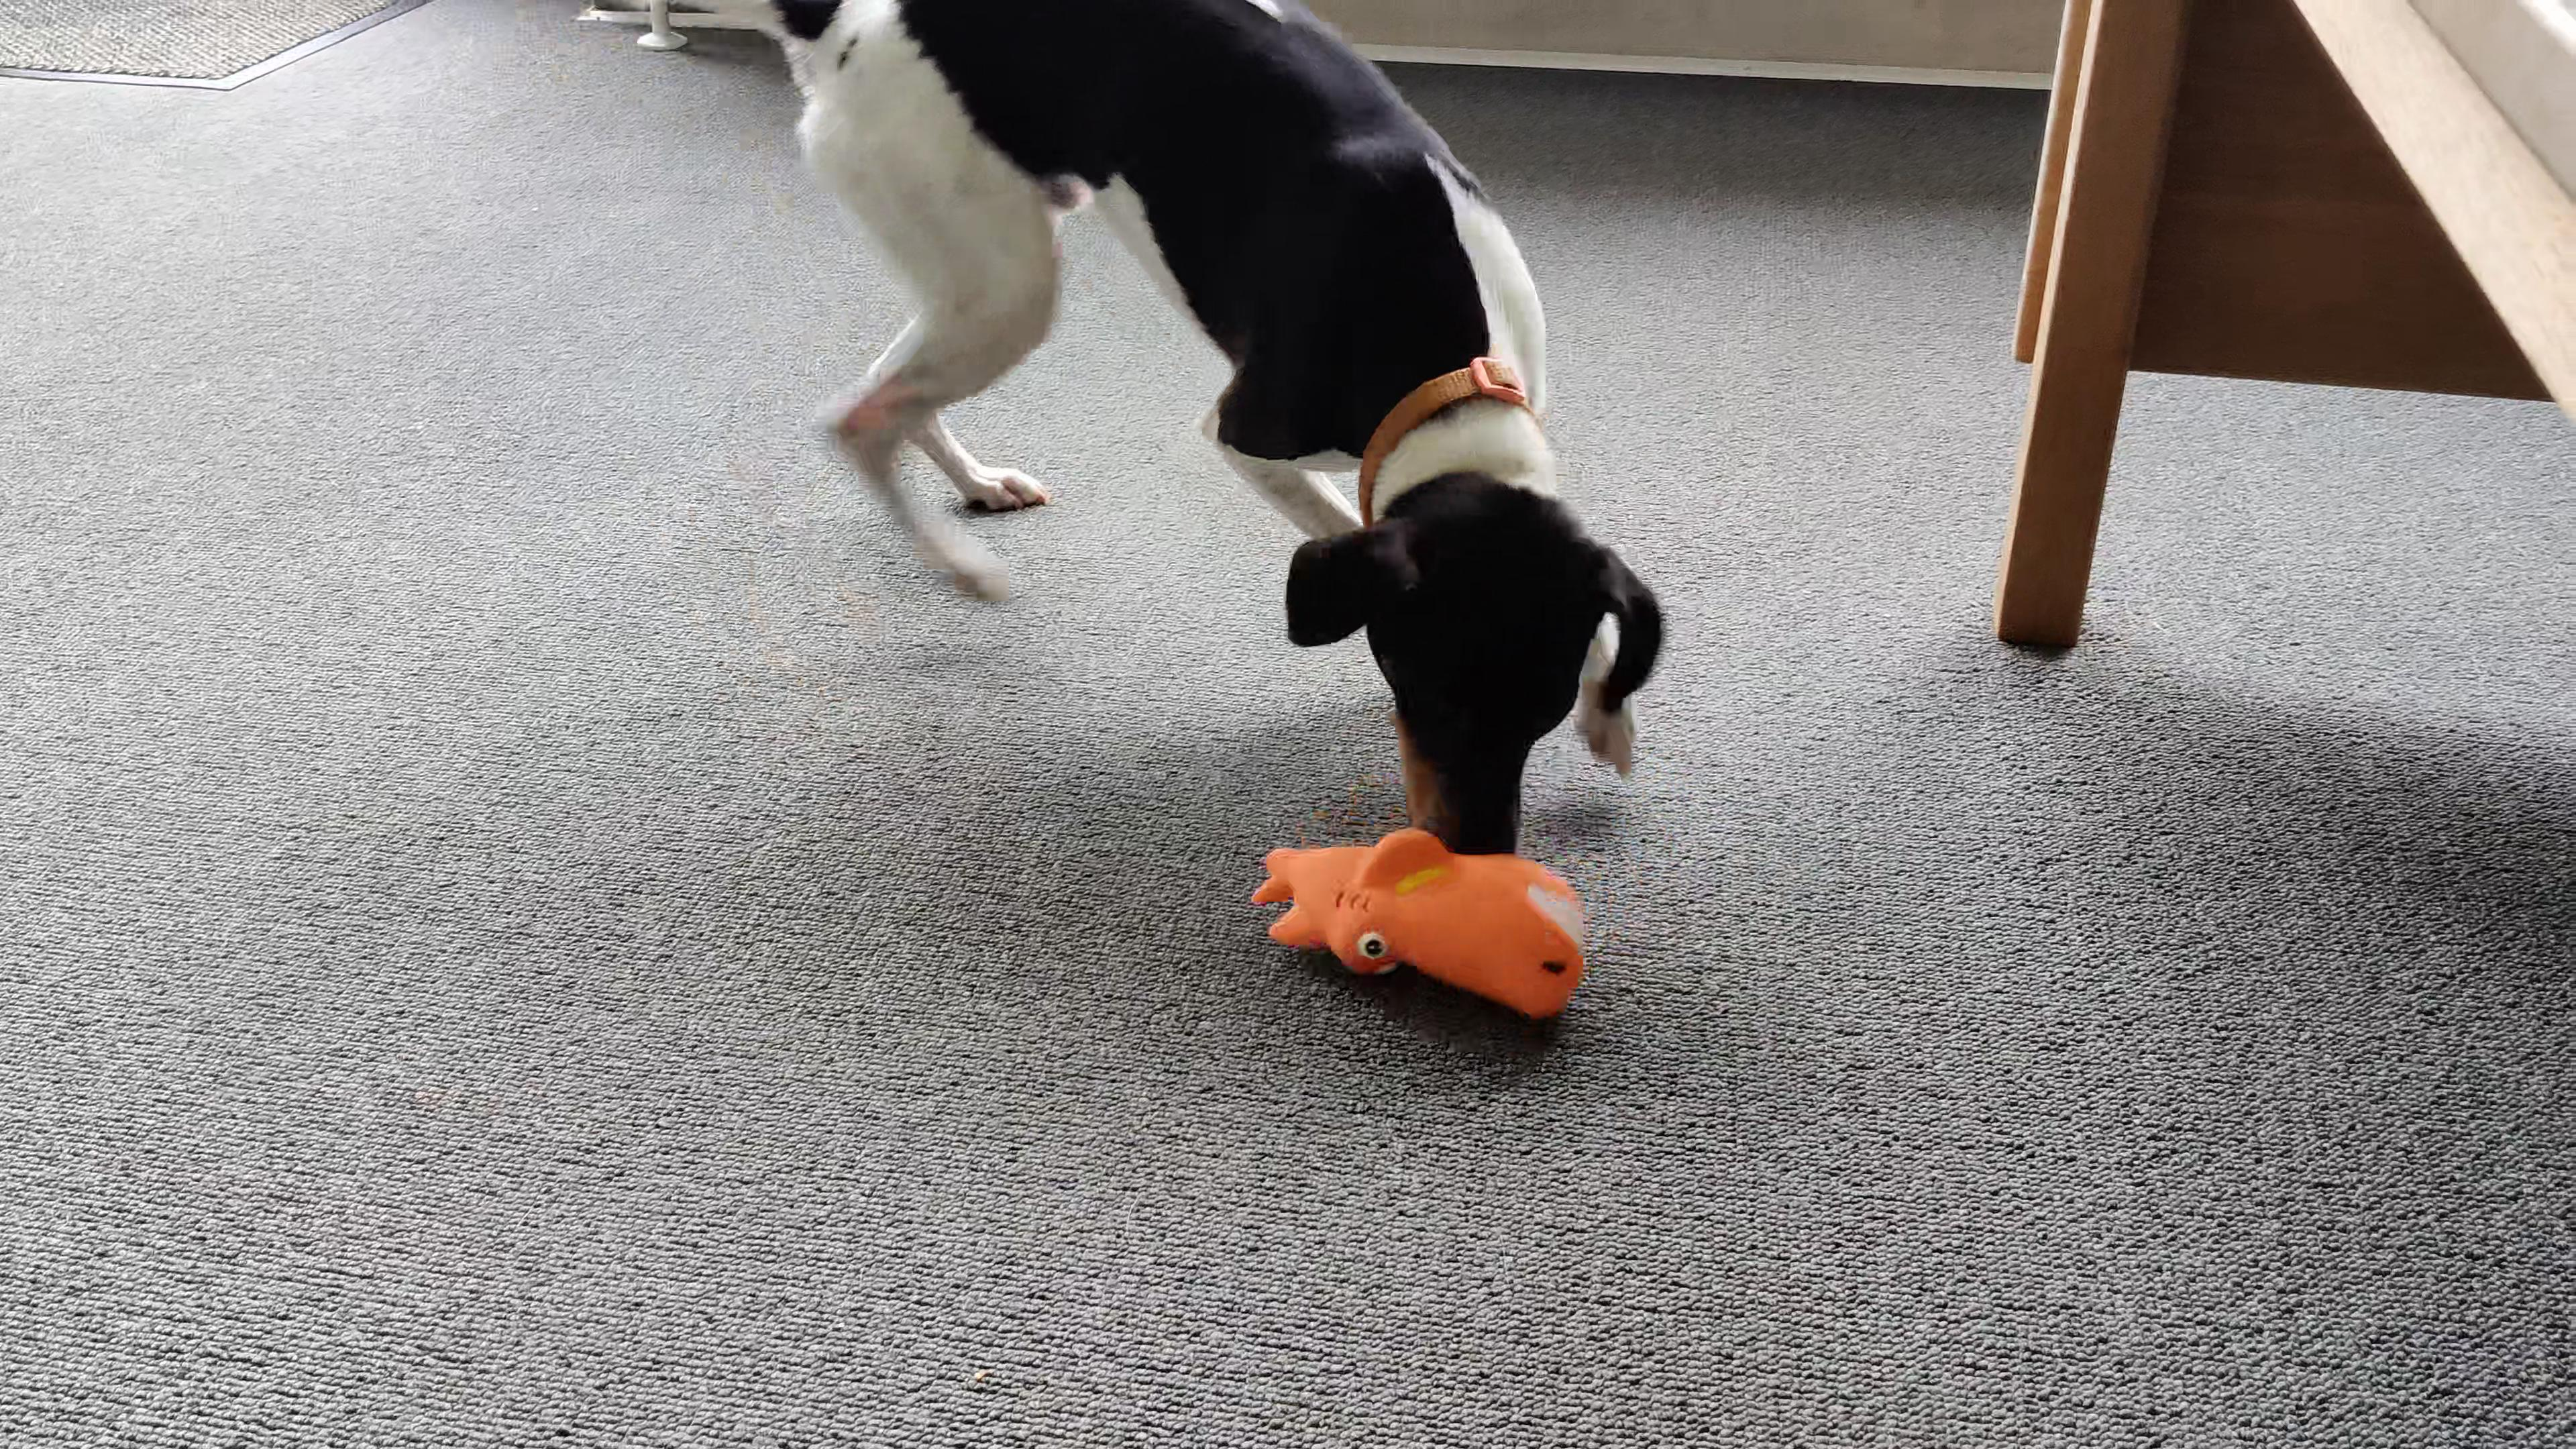Dog: (761, 0, 1670, 863)
